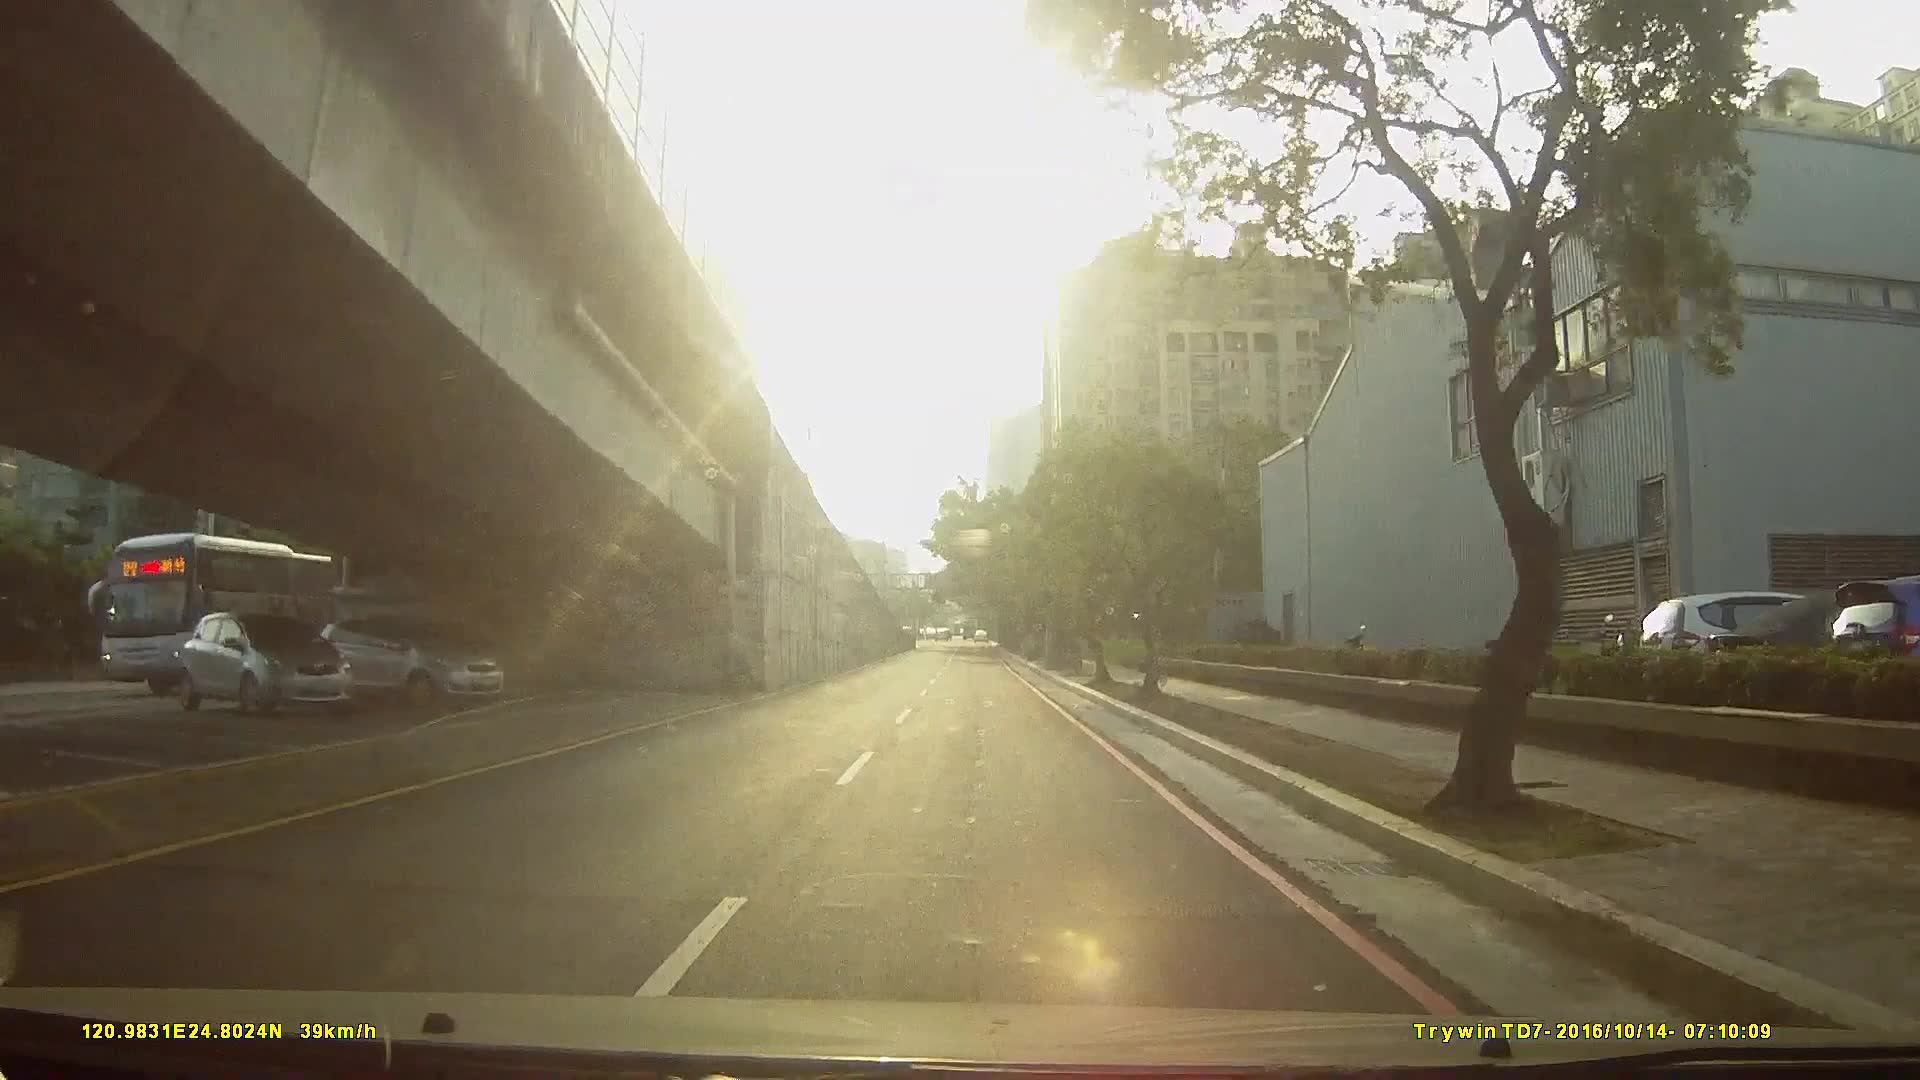vehicle: (70, 524, 360, 705), (301, 613, 522, 709), (165, 607, 343, 717)
